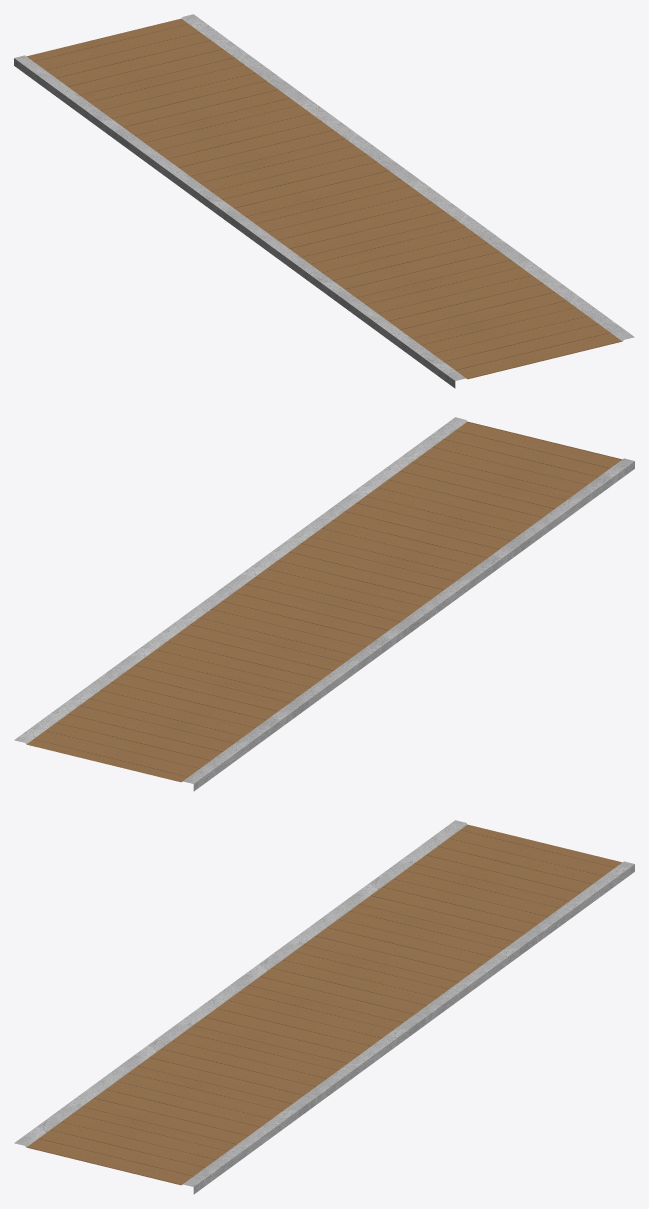
File: Bridge02_MP.glb
3 renders of one model, top to bottom at view 1: azimuth 30°, elevation 25°; view 2: azimuth 150°, elevation 25°; view 3: azimuth 330°, elevation 25°, orthographic.
Visible parts, largest first — view 1: BridgeDouble_MP; view 2: BridgeDouble_MP; view 3: BridgeDouble_MP.
Part boxes in pixels (x1,y1,x2,y2): BridgeDouble_MP: [14, 14, 634, 388]; BridgeDouble_MP: [14, 417, 634, 791]; BridgeDouble_MP: [14, 820, 634, 1194].
Size of the model in its own units: 11.07 by 0.4535 by 47.08.
Materials: 1 (1 with a texture image).
